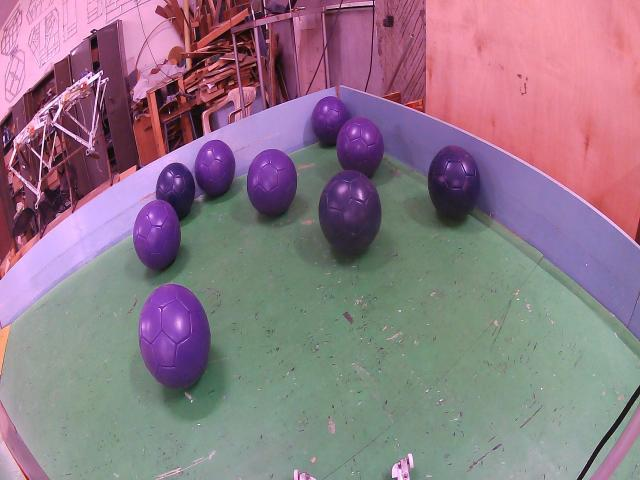jambhalya: (139, 283, 210, 388), (132, 200, 181, 270), (248, 150, 298, 217), (336, 117, 384, 178), (195, 140, 235, 197), (311, 97, 349, 145)
kaalyya: (319, 170, 381, 254), (428, 145, 480, 219), (156, 163, 195, 218)
